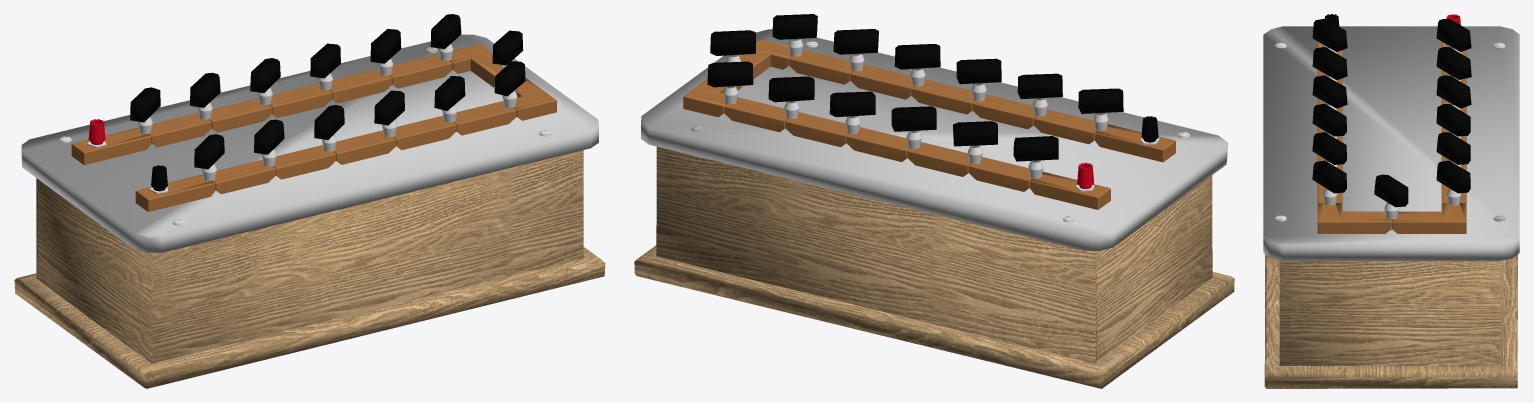
File: ResistanceBox.fbx
3 renders of one model, left to right at view 1: azimuth 30°, elevation 25°; view 2: azimuth 150°, elevation 25°; view 3: azimuth 270°, elevation 25°, orthographic. The views are drawn at different scales.
Parts seen in each view (by area): view 1: pCube1.001, pCube2.001, pCube26.001, pCube27.007; view 2: pCube1.001, pCube2.001, pCube26.001, pCube27.007; view 3: pCube2.001, pCube1.001, pCube27.007, pCube26.001.
Boxes of the visible parts, x1,y1,x2,y2 form: pCube1.001: (14, 150, 605, 388); pCube2.001: (21, 34, 598, 252); pCube26.001: (59, 44, 556, 225); pCube27.007: (130, 14, 525, 169); pCube1.001: (634, 146, 1234, 388); pCube2.001: (641, 29, 1227, 250); pCube26.001: (683, 38, 1189, 222); pCube27.007: (707, 14, 1123, 161); pCube2.001: (1263, 26, 1519, 261); pCube1.001: (1264, 254, 1517, 388); pCube27.007: (1312, 18, 1471, 207); pCube26.001: (1275, 41, 1505, 233).
Size of the model in its own units: 472 by 192 by 233.
